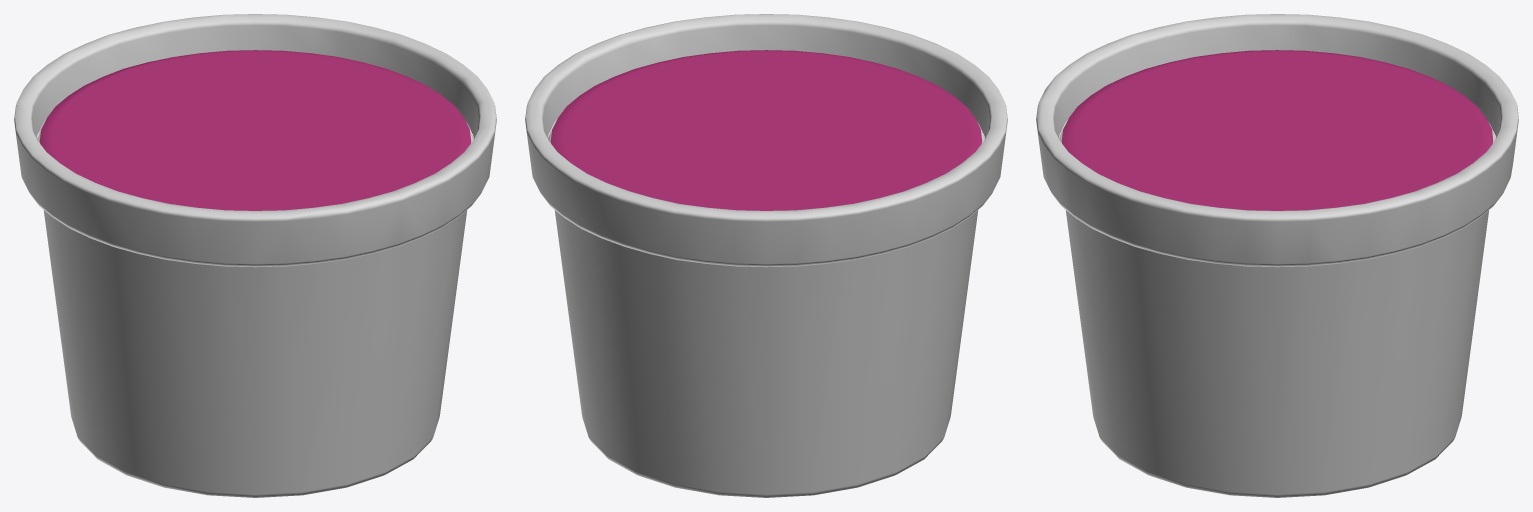
The model's file is Vase_04_Mesh.FBX.
The picture shows the model from 3 angles, left to right: view 1: azimuth 30°, elevation 25°; view 2: azimuth 150°, elevation 25°; view 3: azimuth 270°, elevation 25°; orthographic projection.
Visible parts, largest first — view 1: Vase_04_Mesh; view 2: Vase_04_Mesh; view 3: Vase_04_Mesh.
Boxes of the visible parts, <box> form: Vase_04_Mesh: <box>14,14,496,497</box>; Vase_04_Mesh: <box>525,14,1007,497</box>; Vase_04_Mesh: <box>1036,14,1518,497</box>.
Size of the model in its own units: 33.73 by 23.77 by 33.73.
